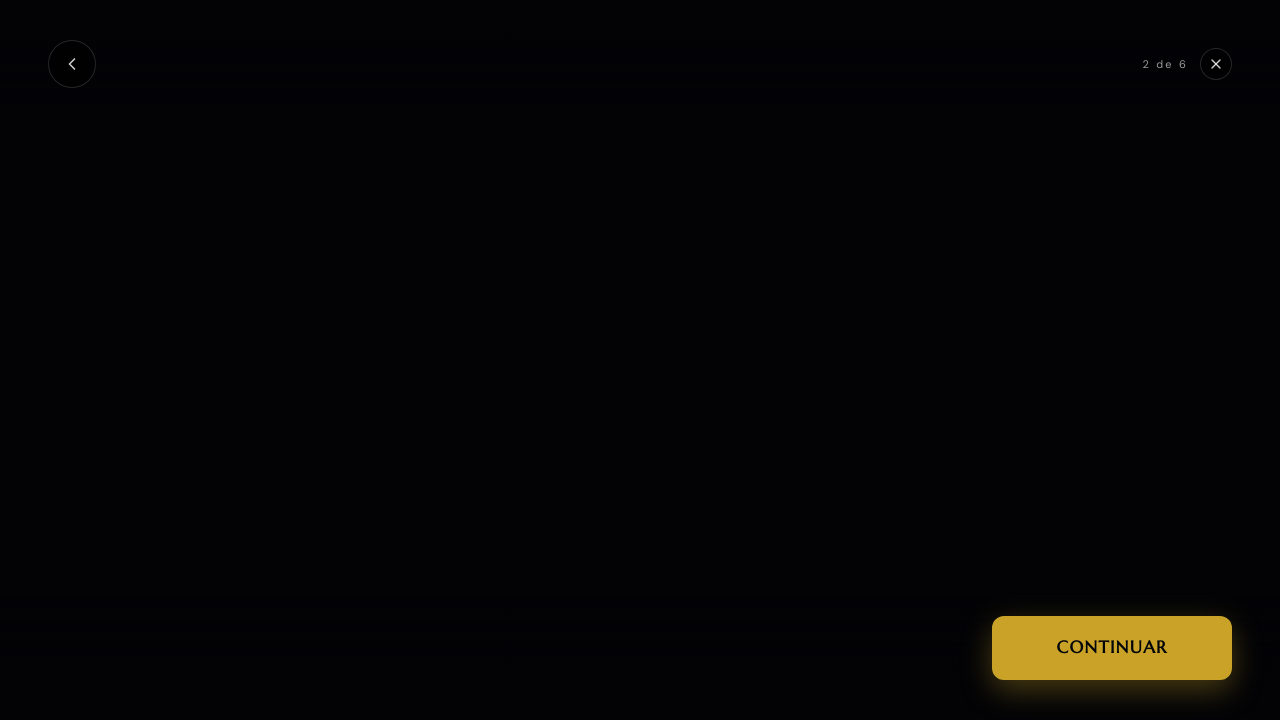
Test: Apresentação de seis telas › abre os detalhes de uma cidade na segunda tela e permite voltar
The image size is (1280, 720).
Earlier steps of the test are not shown.
Click the button named "Voltar".
click(72, 64)  # box [48,40,96,88]
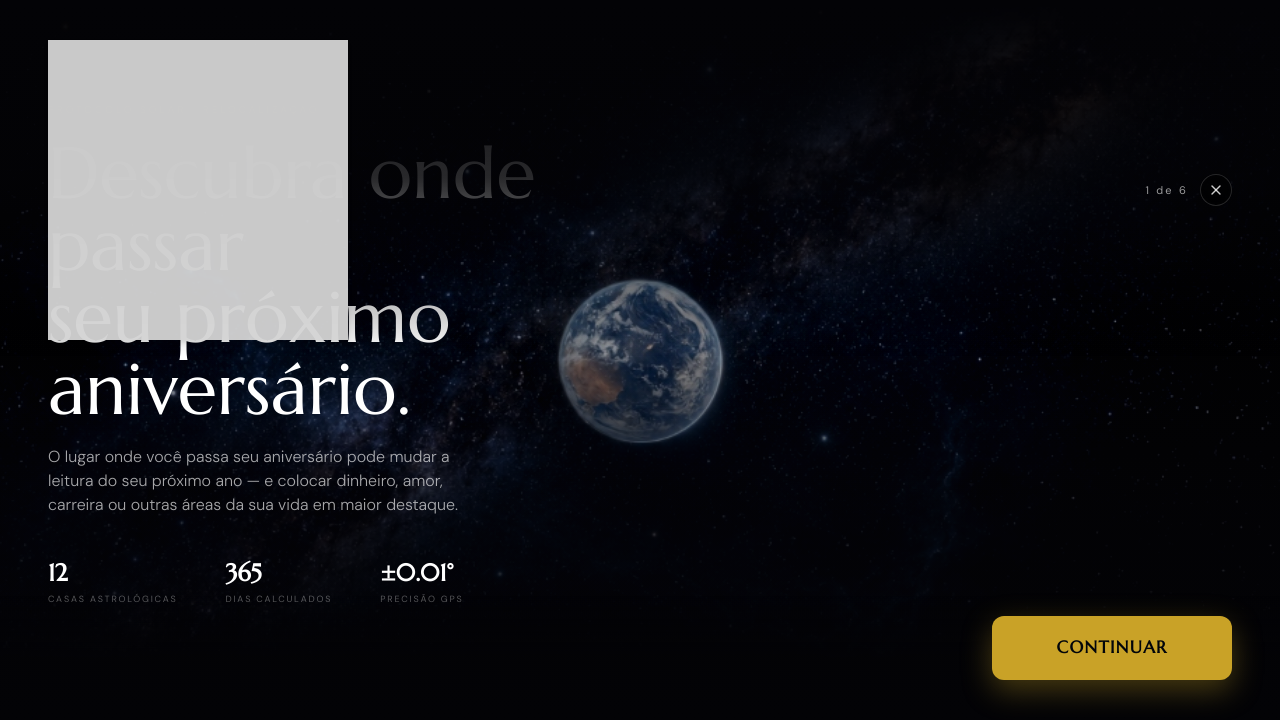
Expected: the text "1 de 6" is shown, [1146,182,1188,198]
